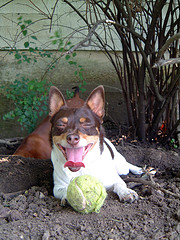tennis ball: (64, 175, 107, 216)
